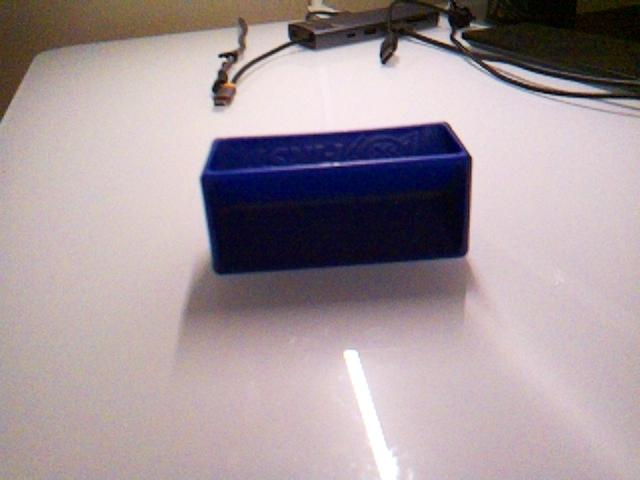blue: (199, 120, 474, 276)
